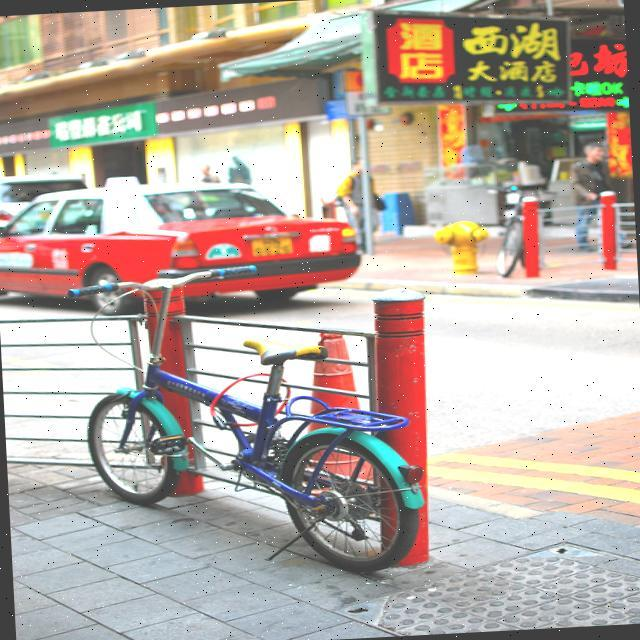fire_hydrant: (433, 219, 490, 276)
